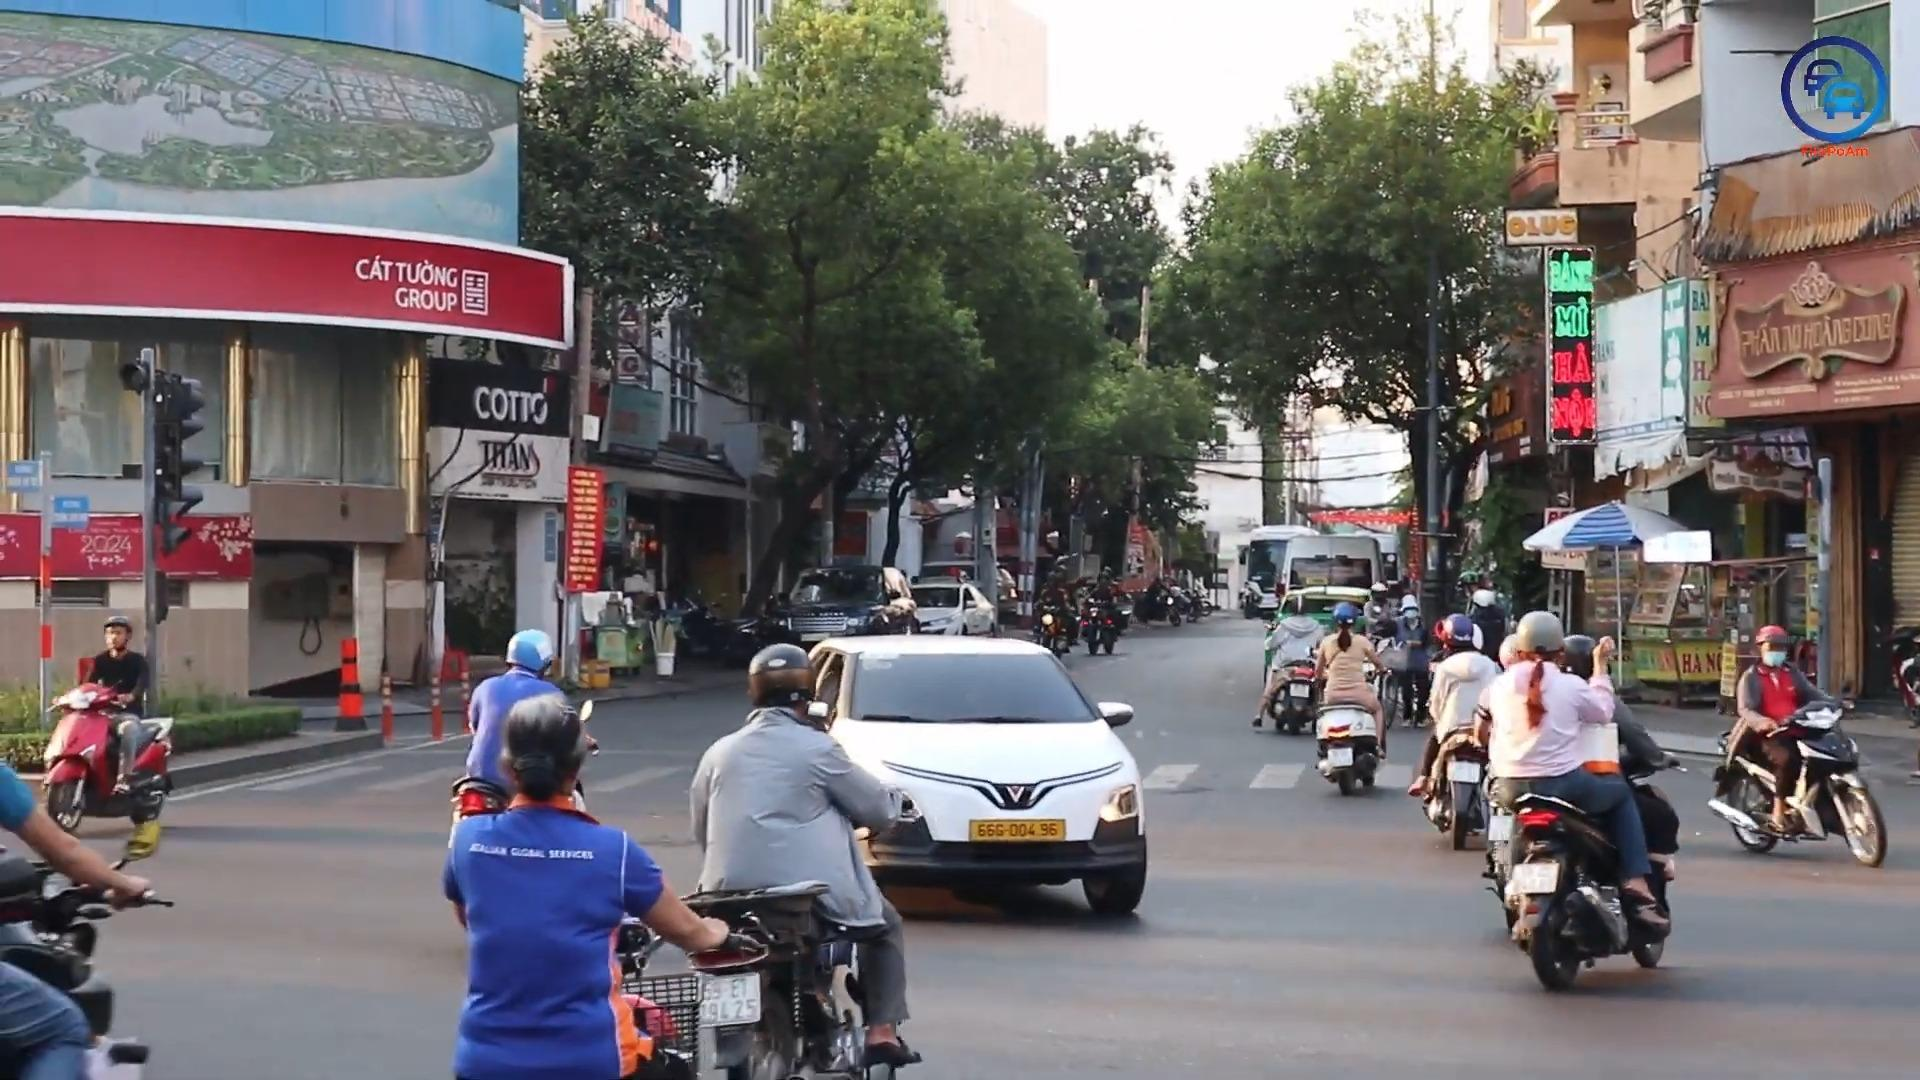bien_so: (696, 974, 765, 1027), (967, 816, 1068, 843), (1508, 861, 1561, 895), (1446, 759, 1481, 785), (1327, 747, 1353, 768)
